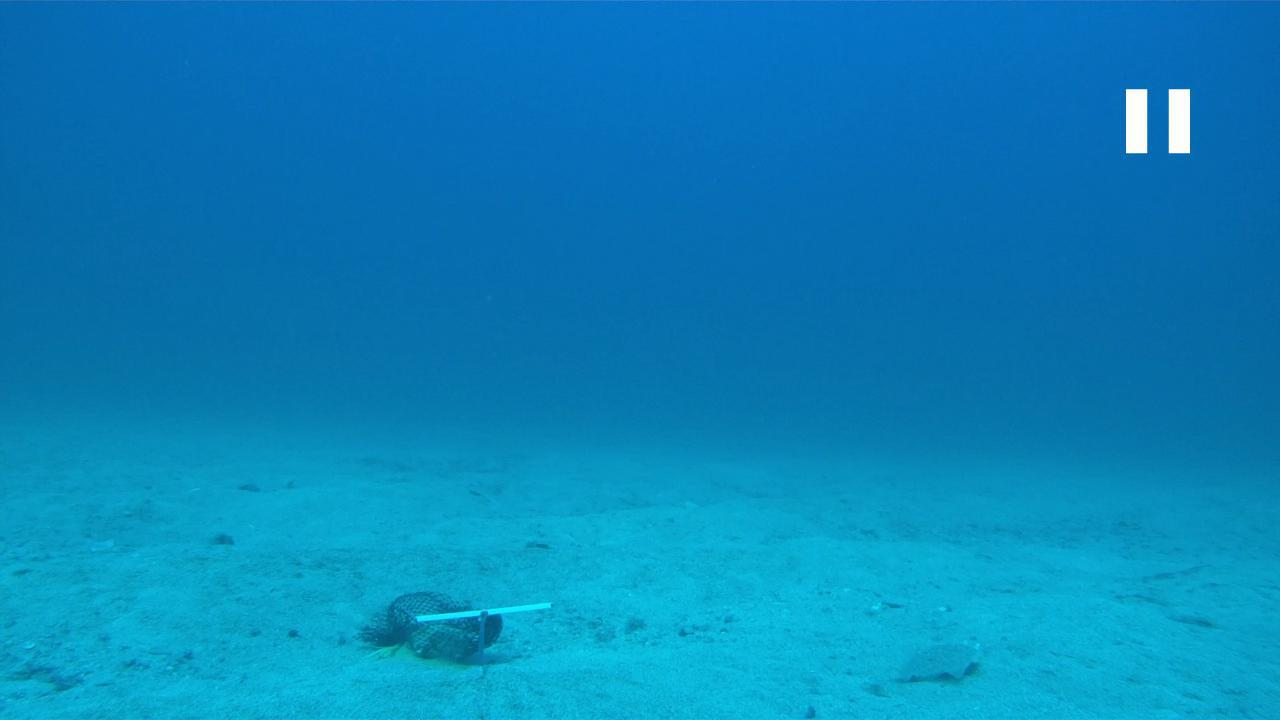bothus: (886, 638, 983, 688)
